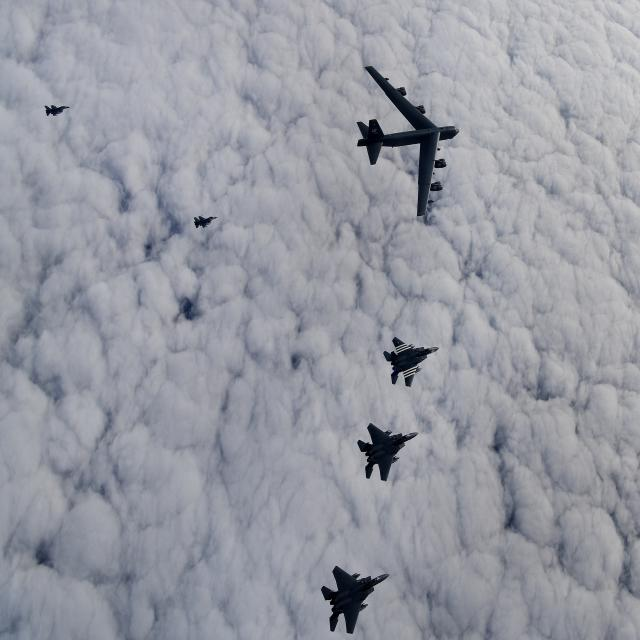MIL_Plane: (356, 65, 460, 217), (320, 564, 390, 634), (356, 422, 418, 482), (383, 336, 440, 388), (194, 215, 218, 229), (44, 105, 70, 116)
